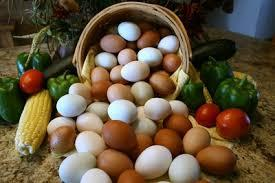egg: (198, 146, 240, 178), (59, 147, 96, 183), (46, 110, 75, 152), (136, 144, 172, 177), (102, 119, 136, 153), (96, 146, 132, 178), (182, 124, 210, 152), (171, 153, 197, 181), (107, 99, 138, 122), (56, 92, 85, 116), (149, 72, 178, 96), (144, 97, 170, 122), (154, 128, 183, 150), (120, 61, 149, 83), (78, 110, 102, 136), (97, 32, 127, 52), (136, 44, 162, 66), (107, 78, 132, 100), (94, 50, 116, 75), (158, 35, 180, 59), (116, 20, 142, 40)
